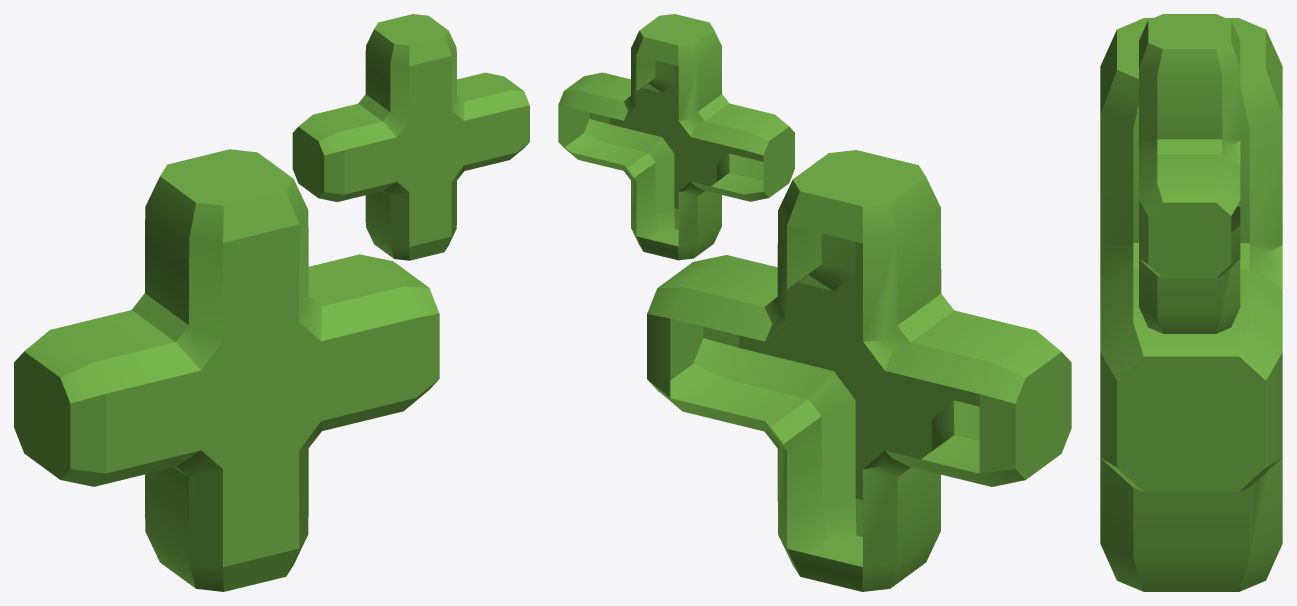
Rendered from Bonus Plus Icon Multi.fbx.
The picture shows the model from 3 angles, left to right: view 1: azimuth 30°, elevation 25°; view 2: azimuth 150°, elevation 25°; view 3: azimuth 270°, elevation 25°; orthographic projection. The views are drawn at different scales.
Visible parts, largest first — view 1: Bonus Plus Icon; view 2: Bonus Plus Icon; view 3: Bonus Plus Icon.
Part boxes in pixels (left/top/right/bottom): Bonus Plus Icon: left=14, top=14, right=529, bottom=591; Bonus Plus Icon: left=558, top=14, right=1071, bottom=591; Bonus Plus Icon: left=1100, top=14, right=1282, bottom=591.
Bounding box in the file's own units: 0.4651 × 0.4618 × 0.1176.
